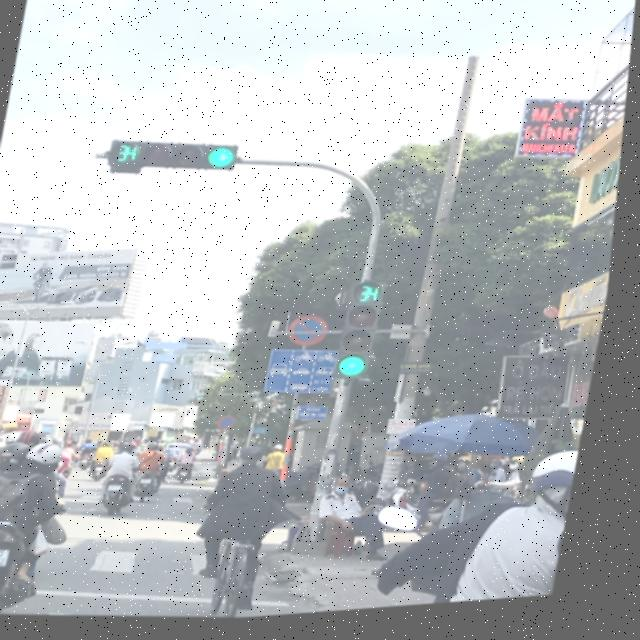Green: (135, 129, 255, 188), (331, 308, 397, 388)
